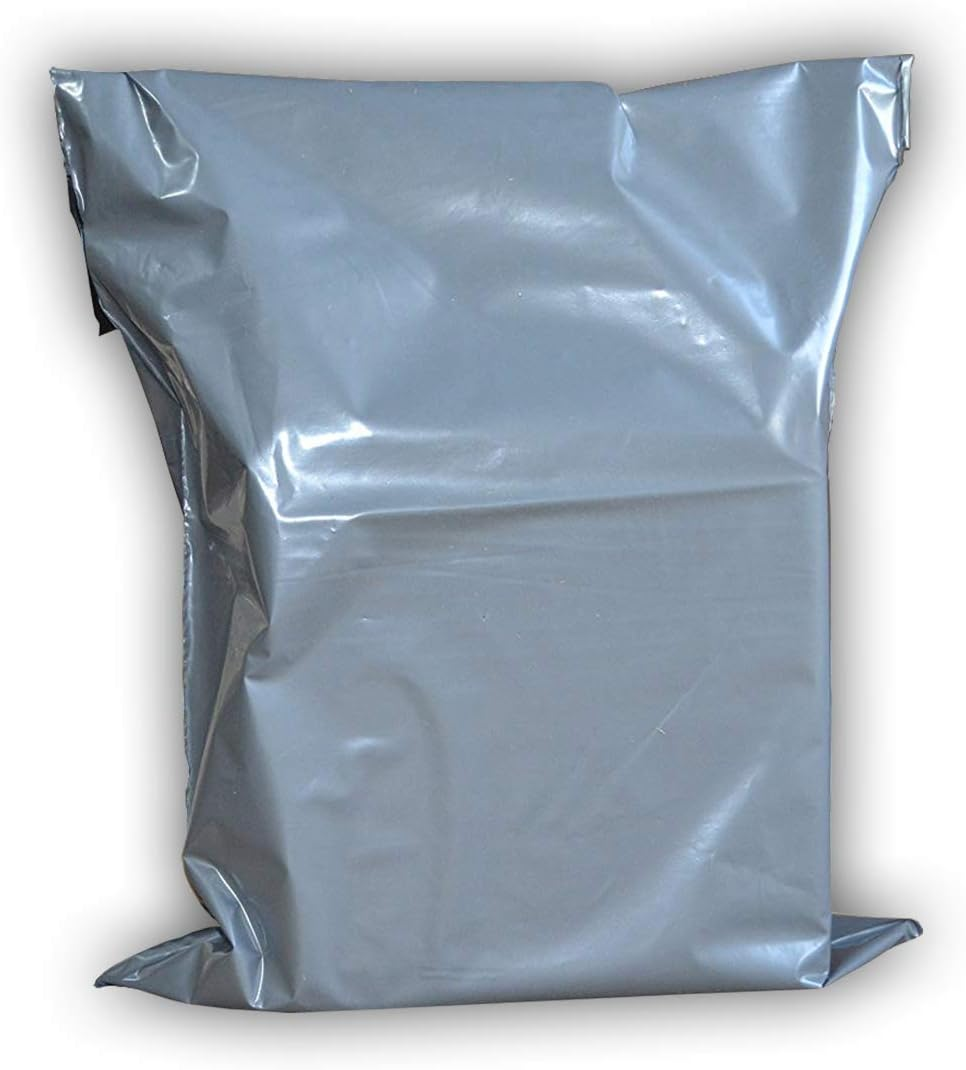塑料袋: (53, 59, 920, 1011)
